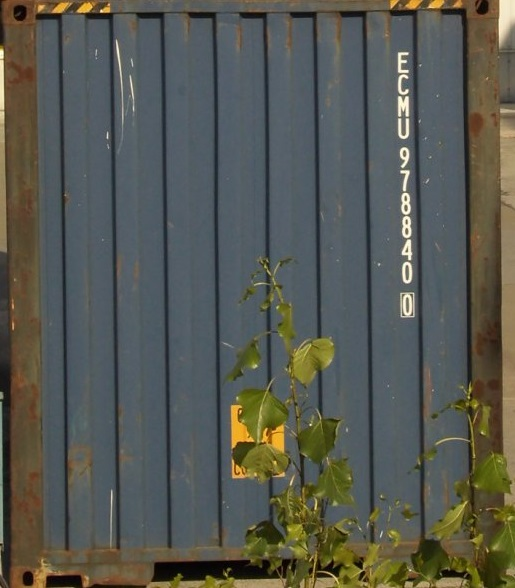container_no_door: (7, 1, 500, 576)
